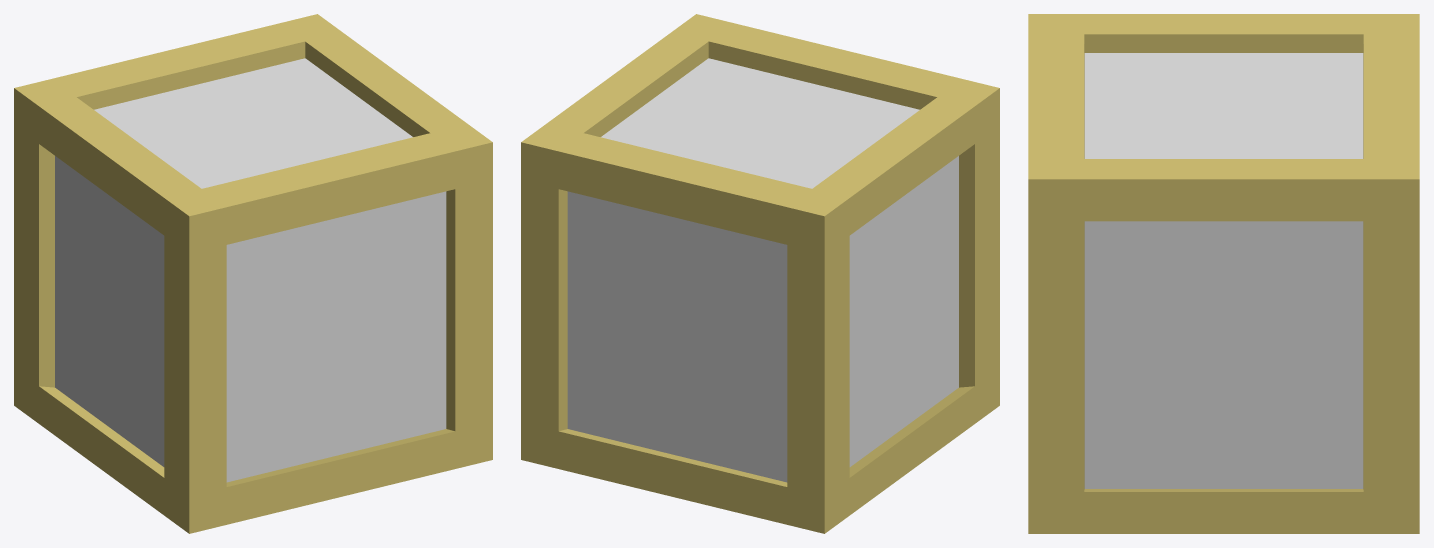
Rendered from aBCBlock.fbx.
3 views of the same model, side by side, from view 1: azimuth 30°, elevation 25°; view 2: azimuth 150°, elevation 25°; view 3: azimuth 270°, elevation 25° (orthographic). The views are drawn at different scales.
Visible parts, largest first — view 1: outer cube, Cube; view 2: outer cube, Cube; view 3: Cube, outer cube.
Boxes of the visible parts, left/top/right/bottom form: outer cube: left=14, top=14, right=492, bottom=533; Cube: left=55, top=58, right=446, bottom=482; outer cube: left=521, top=14, right=999, bottom=533; Cube: left=567, top=58, right=958, bottom=482; Cube: left=1084, top=53, right=1363, bottom=488; outer cube: left=1028, top=14, right=1419, bottom=533.
Size of the model in its own units: 200 by 200 by 200.
